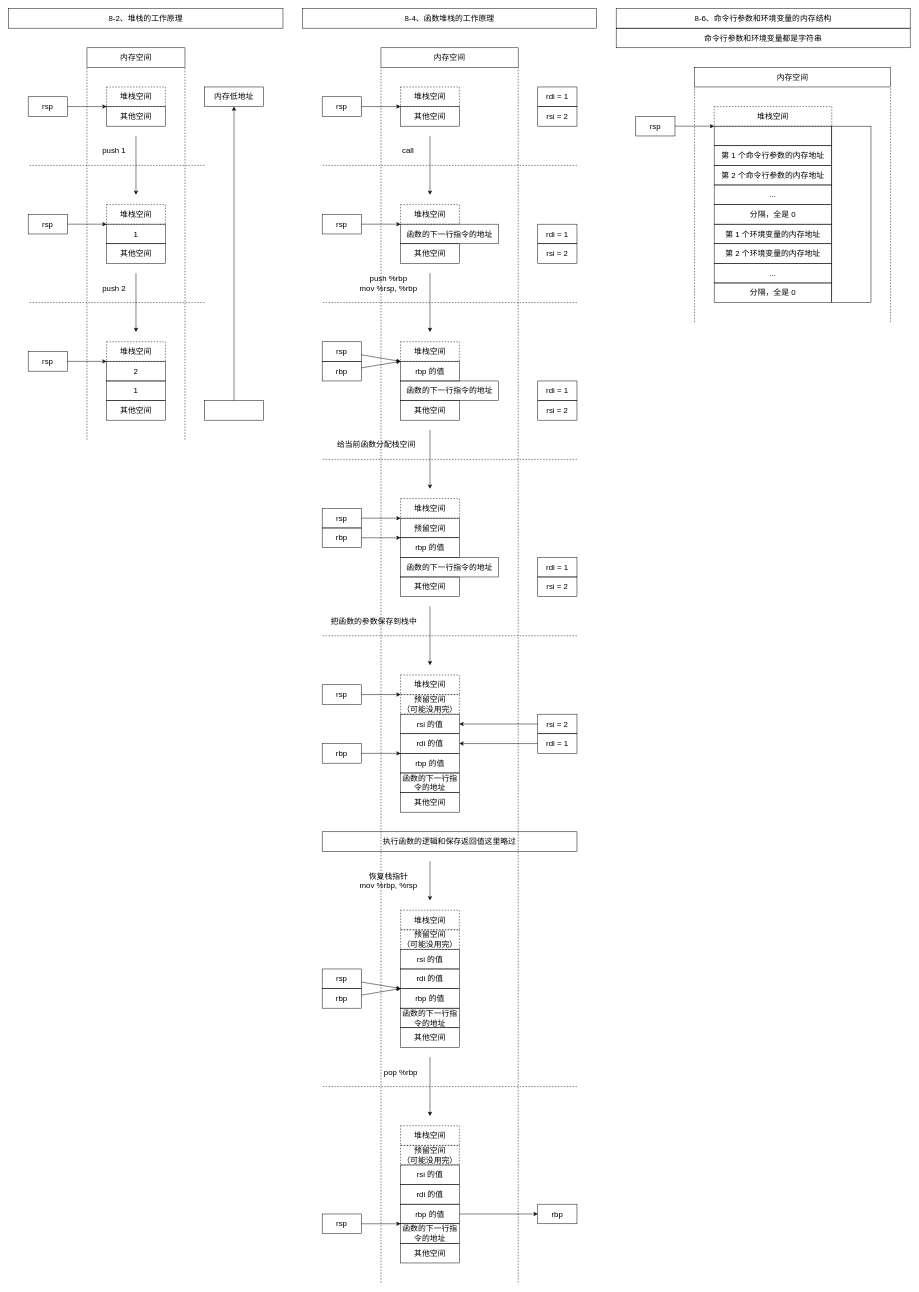
This 919x1292 diagram has some shape labels left out. Each missing label, with the box of its shape:
内存高地址: (204, 400, 263, 420)
命令行参数个数: (714, 126, 832, 146)
每个都是 8 字节: (831, 126, 871, 303)
